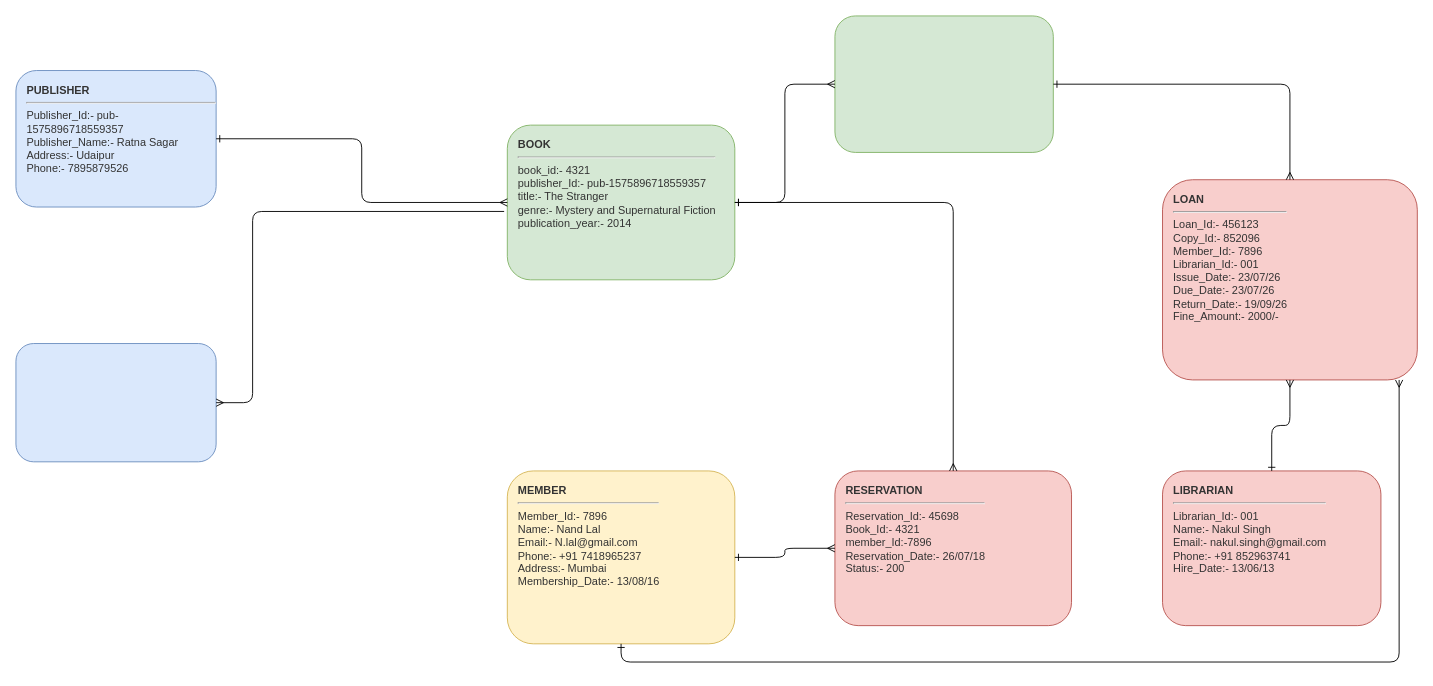
The diagram is 1433 pixels wide and 686 high, and some of its shapes have lost their labels. The centre of each missing label's shape, as x and y in pixels:
AUTHOR Author_id:- 4312 Name:- Harish Sagar Nationality:- Indian: pixel 115 402
BOOK_COPY Copy_Id:- 852096 Book_Id:- 4321 Shelf_Location:-Fiction Status:- 200: pixel 943 83
